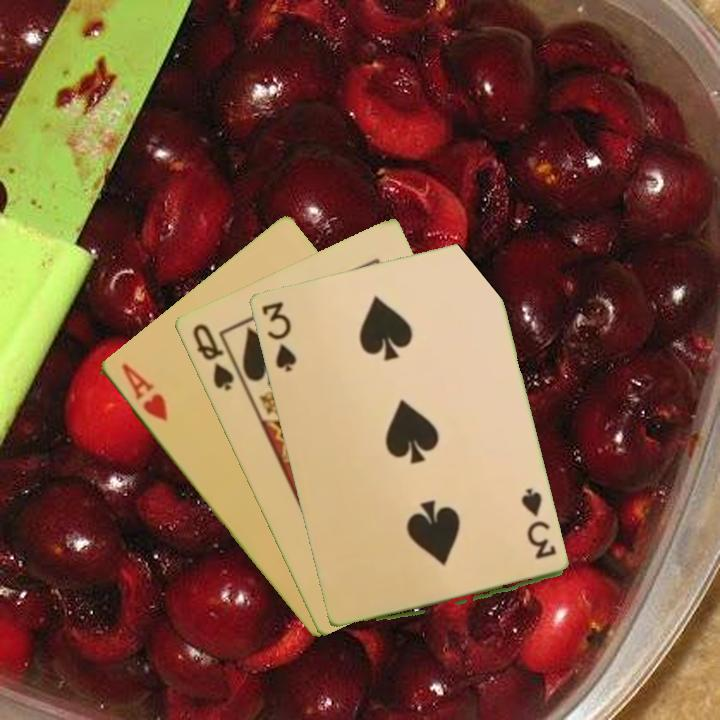3s: (257, 298, 299, 375), (517, 488, 559, 562)
Ah: (117, 359, 170, 425)
Qs: (188, 319, 237, 394)
